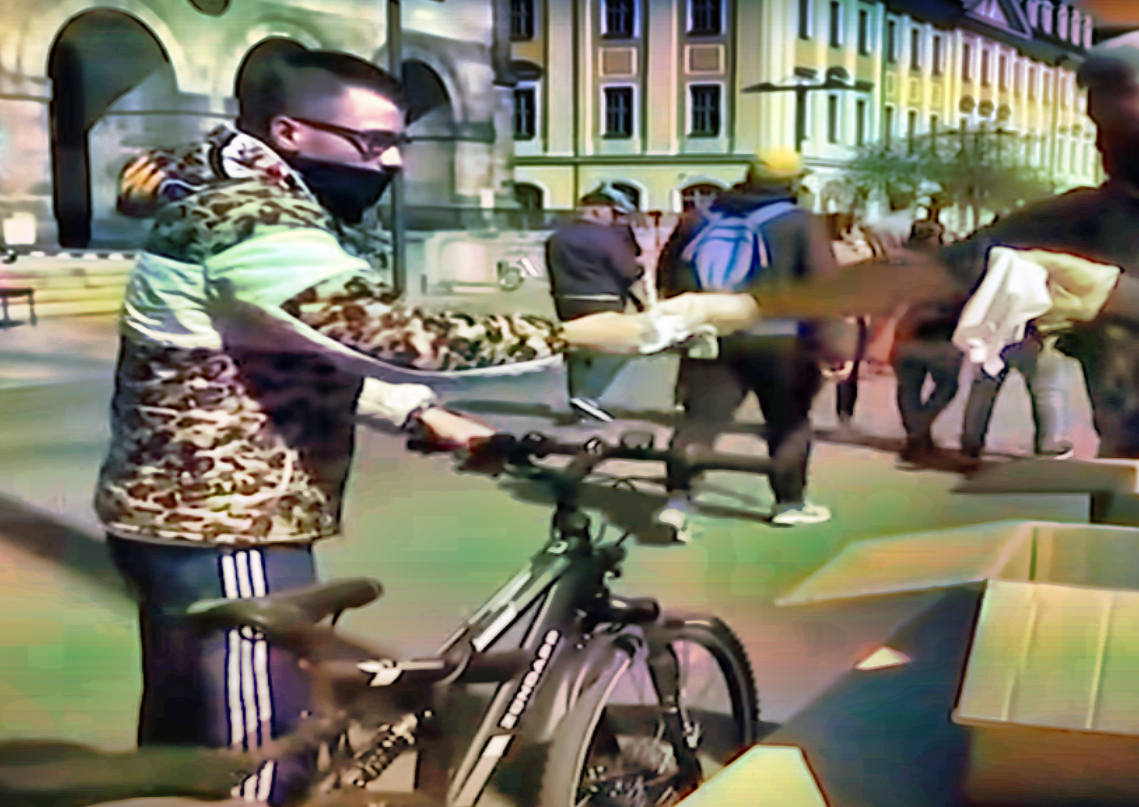mask_weared_incorrect: (239, 47, 417, 222)
